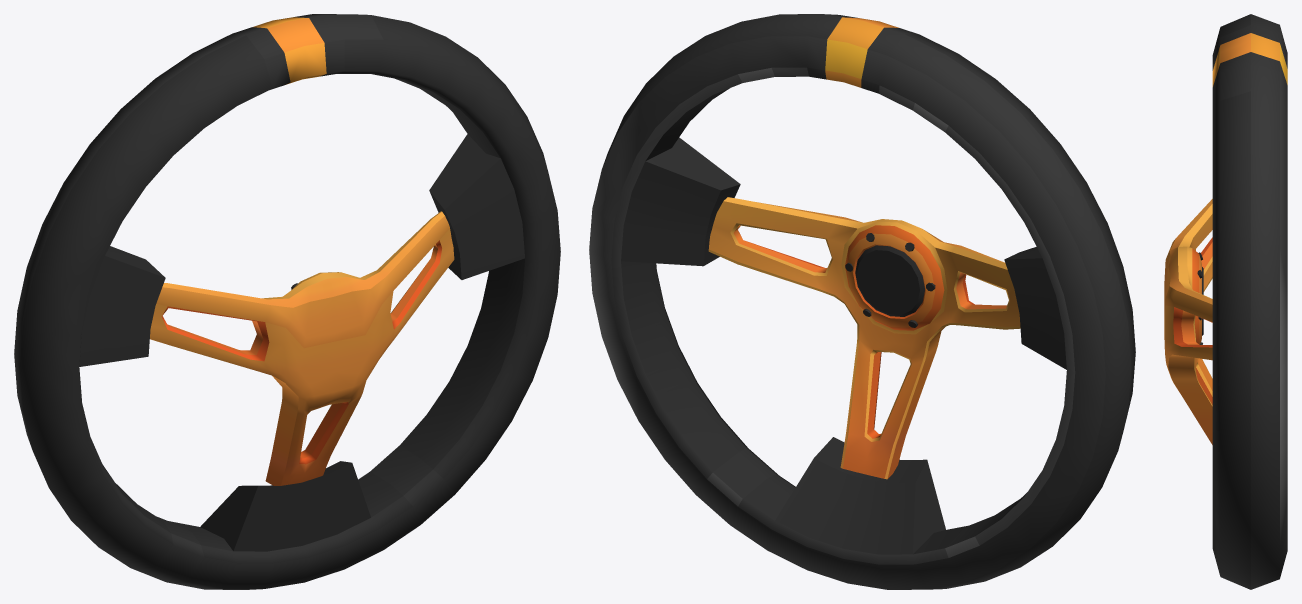
The model's file is SteeringWheelSport.fbx.
The picture shows the model from 3 angles, left to right: view 1: azimuth 30°, elevation 25°; view 2: azimuth 150°, elevation 25°; view 3: azimuth 270°, elevation 25°; orthographic projection. The views are drawn at different scales.
Visible parts, largest first — view 1: SteeringWheeLBeach; view 2: SteeringWheeLBeach; view 3: SteeringWheeLBeach.
Boxes of the visible parts, x1,y1,x2,y2 form: SteeringWheeLBeach: [14, 14, 560, 589]; SteeringWheeLBeach: [589, 14, 1135, 589]; SteeringWheeLBeach: [1164, 14, 1287, 589].
Bounding box in the file's own units: 109 × 109 × 23.22.
